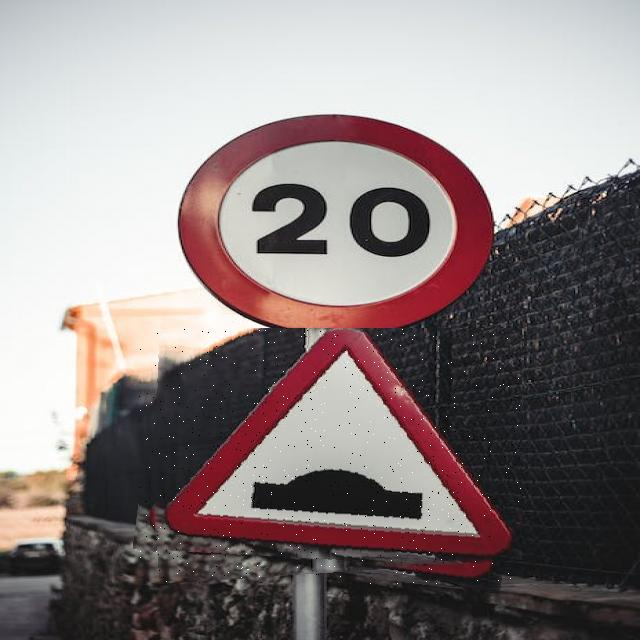hump: (139, 328, 522, 584)
